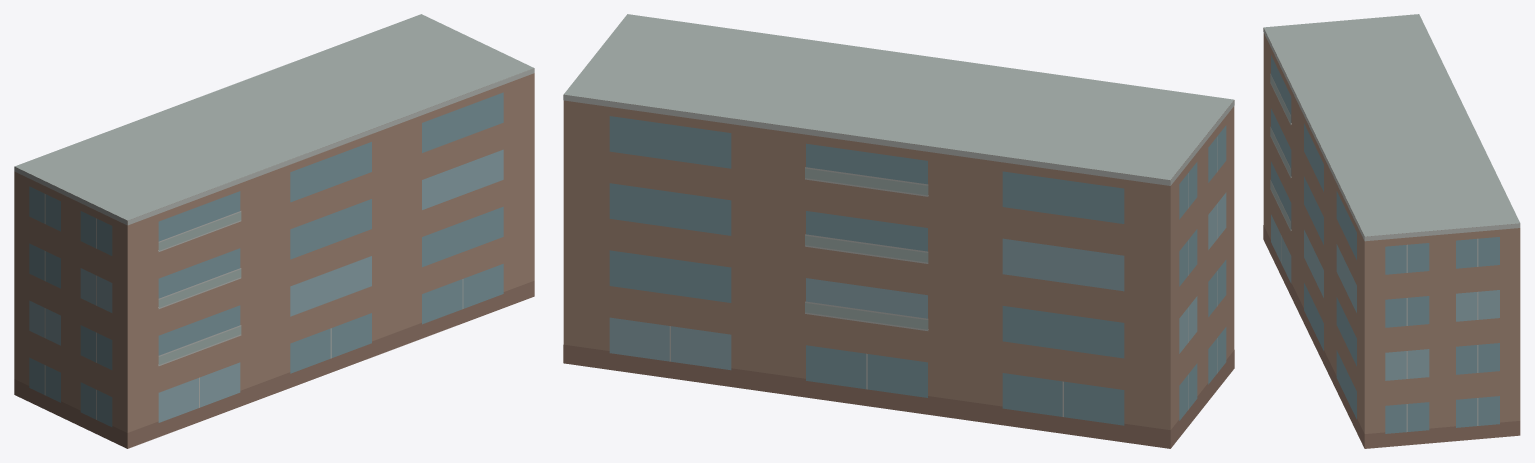
The model's file is survey-upis-32585835.glb.
3 views of the same model, side by side, from view 1: azimuth 30°, elevation 25°; view 2: azimuth 150°, elevation 25°; view 3: azimuth 270°, elevation 25° (orthographic). The views are drawn at different scales.
Visible parts, largest first — view 1: survey-upis-32585835.tmp; view 2: survey-upis-32585835.tmp; view 3: survey-upis-32585835.tmp.
Part boxes in pixels (<box>): survey-upis-32585835.tmp: <box>14,14,534,448</box>; survey-upis-32585835.tmp: <box>563,14,1234,448</box>; survey-upis-32585835.tmp: <box>1263,14,1520,448</box>.
Size of the model in its own units: 25.21 by 11.2 by 12.3.
